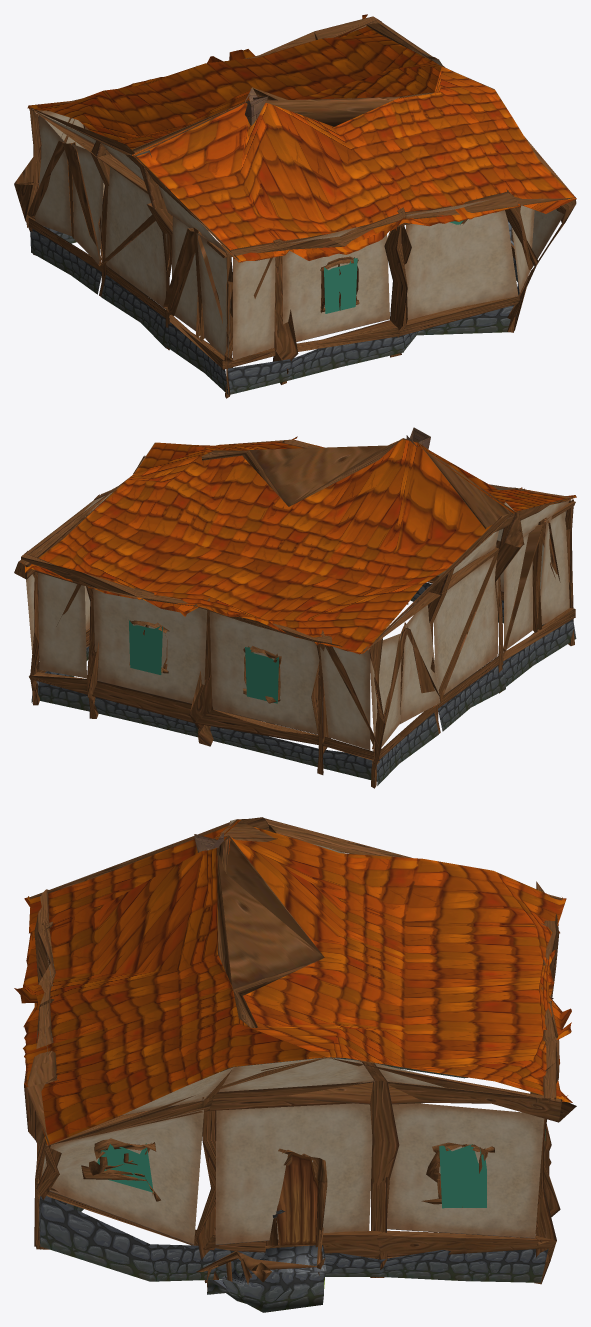
File: house3_morph2.fbx
3 views of the same model, one above another, from view 1: azimuth 30°, elevation 25°; view 2: azimuth 150°, elevation 25°; view 3: azimuth 270°, elevation 25° (orthographic). The views are drawn at different scales.
Visible parts, largest first — view 1: house4before; view 2: house4before; view 3: house4before.
Boxes of the visible parts, x1,y1,x2,y2 form: house4before: (14,14,576,398); house4before: (14,427,576,788); house4before: (14,817,576,1312).
Size of the model in its own units: 186 by 105 by 177.
3 materials, 2 textured.
